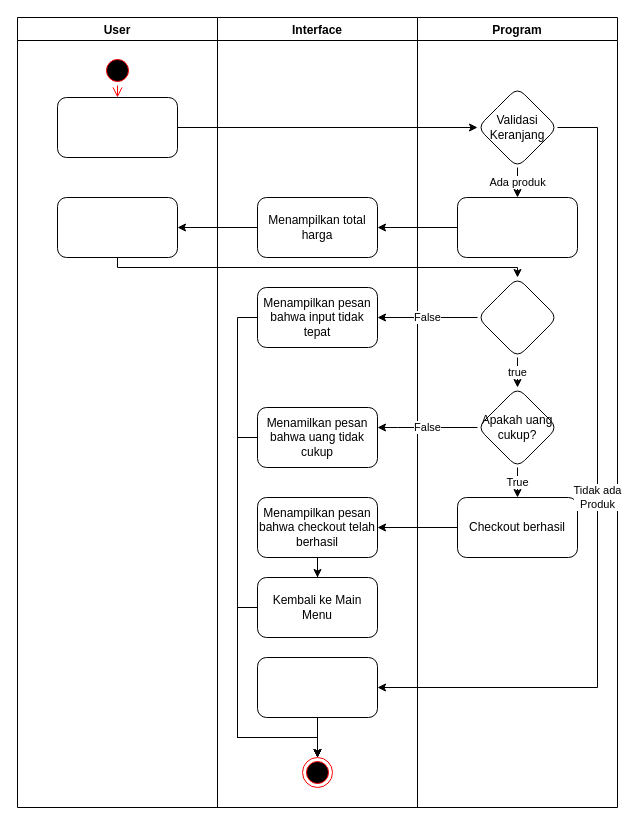
Image size: 639x825. Some labels were removed from this diagram. The centre of each missing label's shape, as x and y in pixels:
Menampilan pesan bahwa tidak ada produk di dalam keranjang: the point at 317,687
Menghitung total harga: the point at 517,227
User memasukkan jumlah uang yang dibayarkan: the point at 117,227
User menekan tombol "Checkout": the point at 117,127
Validasi Input: the point at 517,317
